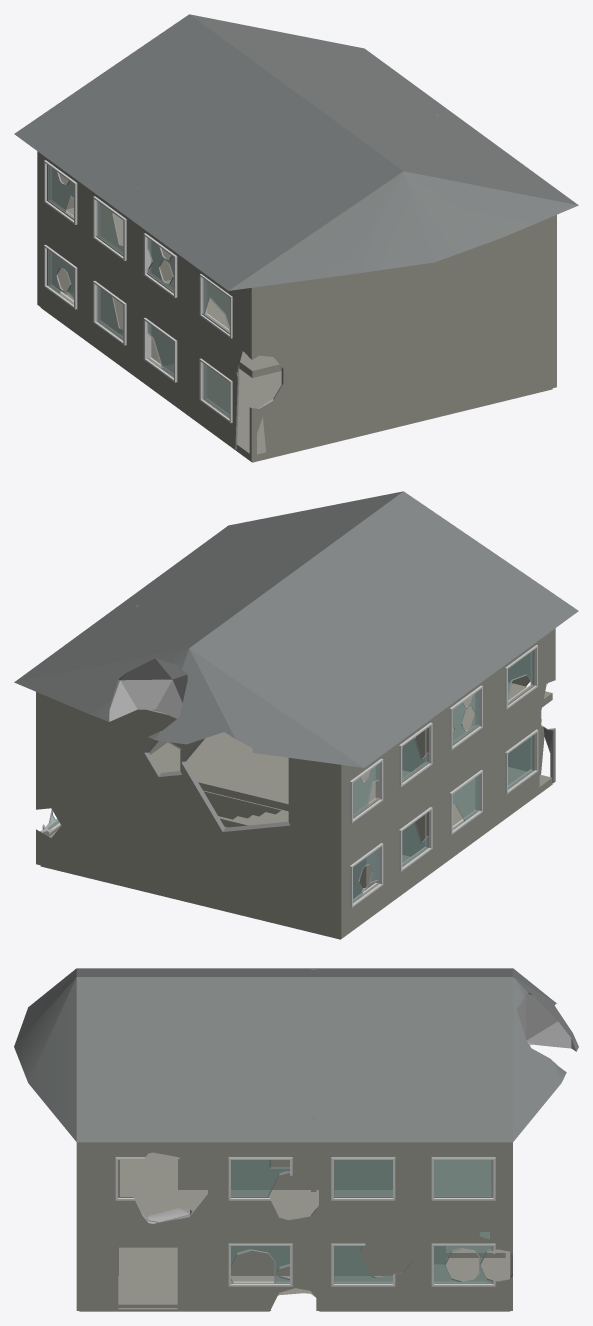
File: casa 2p.fbx
3 renders of one model, top to bottom at view 1: azimuth 30°, elevation 25°; view 2: azimuth 150°, elevation 25°; view 3: azimuth 270°, elevation 25°, orthographic.
Visible parts, largest first — view 1: polySurface61; view 2: polySurface61; view 3: polySurface61.
Boxes of the visible parts, box(x1,y1,x2,y2) form: polySurface61: box(14, 14, 578, 462); polySurface61: box(14, 491, 578, 939); polySurface61: box(14, 968, 578, 1311).
Size of the model in its own units: 11.73 by 8.18 by 16.08.
